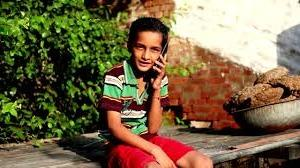Human: (97, 16, 214, 168)
